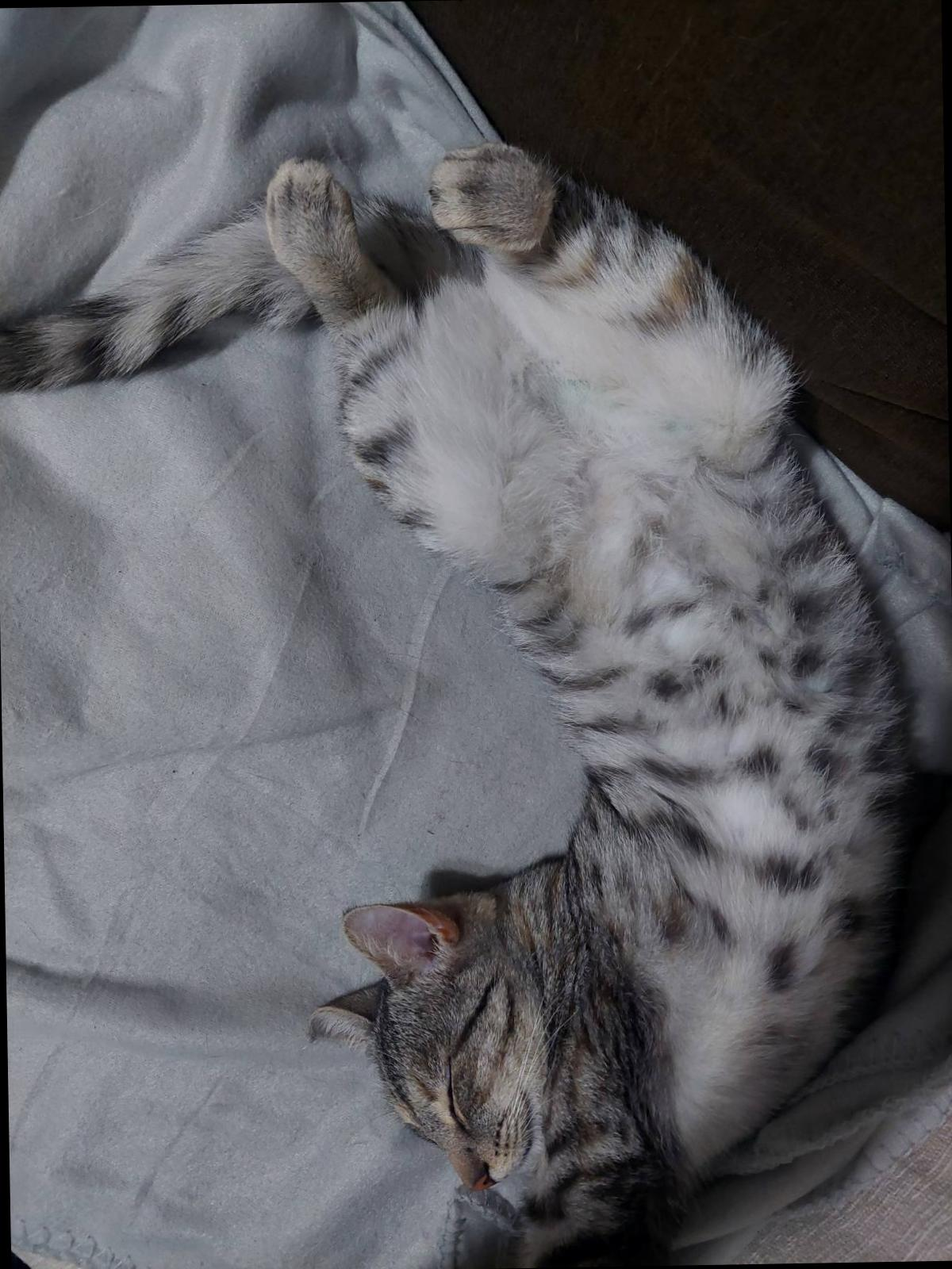macka: (0, 125, 930, 1269)
